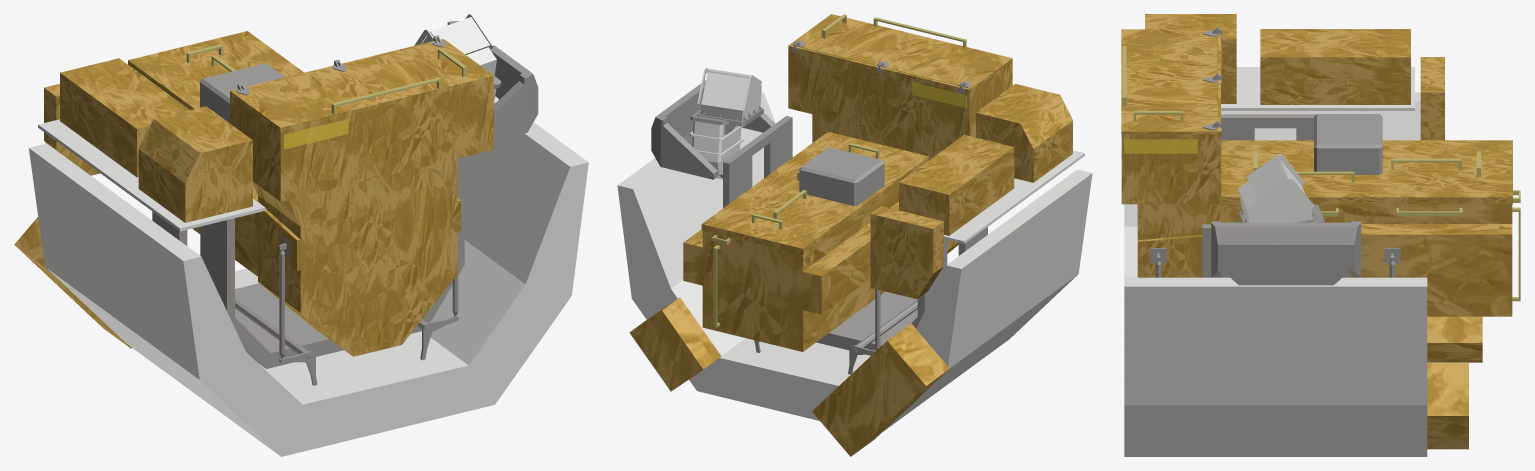
File: orbital-replacement-unit.glb
The picture shows the model from 3 angles, left to right: view 1: azimuth 30°, elevation 25°; view 2: azimuth 150°, elevation 25°; view 3: azimuth 270°, elevation 25°; orthographic projection. The views are drawn at different scales.
Parts seen in each view (by area): view 1: spaceshutt; view 2: spaceshutt; view 3: spaceshutt.
Part boxes in pixels (left/top/right/bottom): spaceshutt: left=14, top=14, right=588, bottom=456; spaceshutt: left=617, top=14, right=1092, bottom=456; spaceshutt: left=1121, top=14, right=1520, bottom=456.
Bounding box in the file's own units: 174 × 141 × 151.
Materials: 4 (4 with a texture image).
